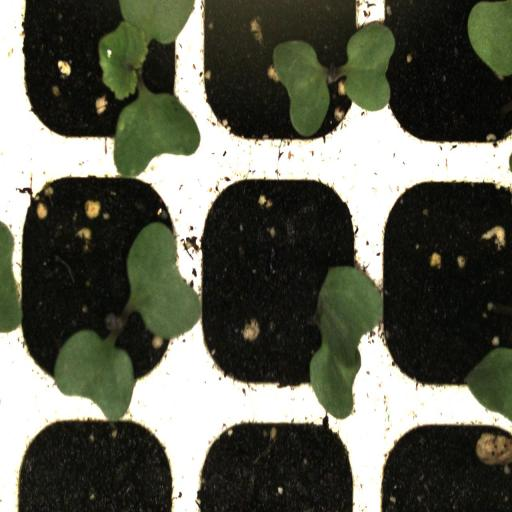Folha: (309, 266, 384, 420), (126, 222, 203, 340), (53, 329, 136, 423), (272, 39, 330, 137), (342, 24, 396, 112), (464, 347, 512, 421), (0, 222, 23, 334)
Germinacao: (190, 168, 370, 408), (14, 173, 189, 396), (194, 0, 370, 169), (13, 0, 190, 166)
